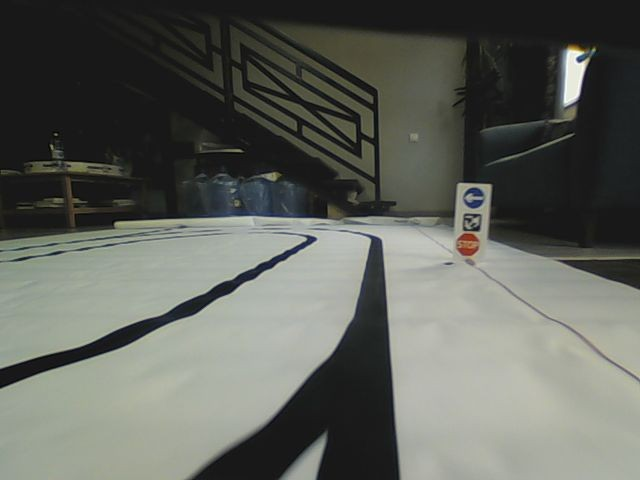Stop: (455, 232, 481, 257)
